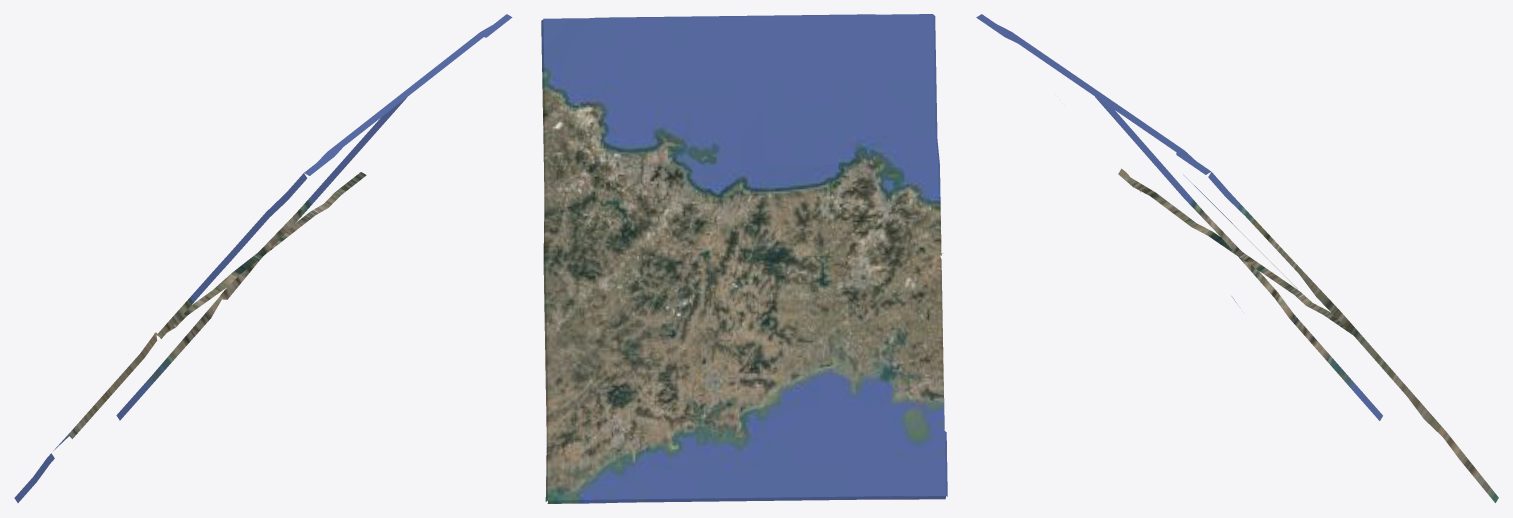
3 views of the same model, side by side, from view 1: azimuth 30°, elevation 25°; view 2: azimuth 150°, elevation 25°; view 3: azimuth 270°, elevation 25° (orthographic). The views are drawn at different scales.
Bounding box in the file's own units: 158043 × 126903 × 148351.
1 material, 1 textured.
